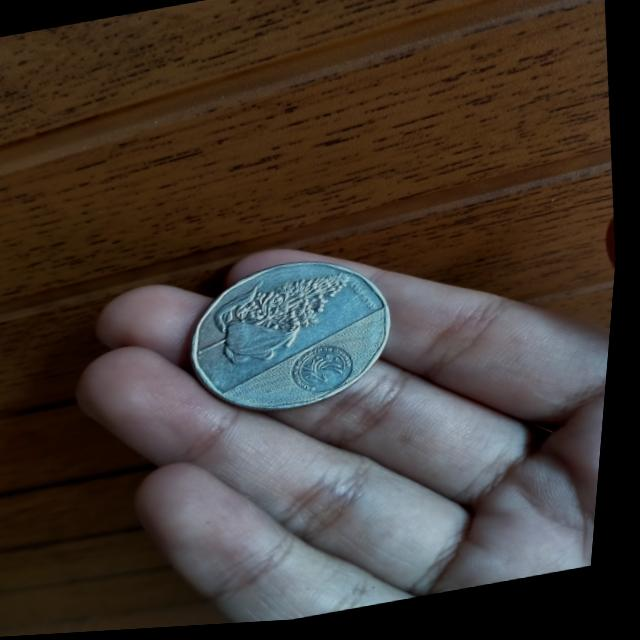10_New_Back: (194, 264, 378, 379)
